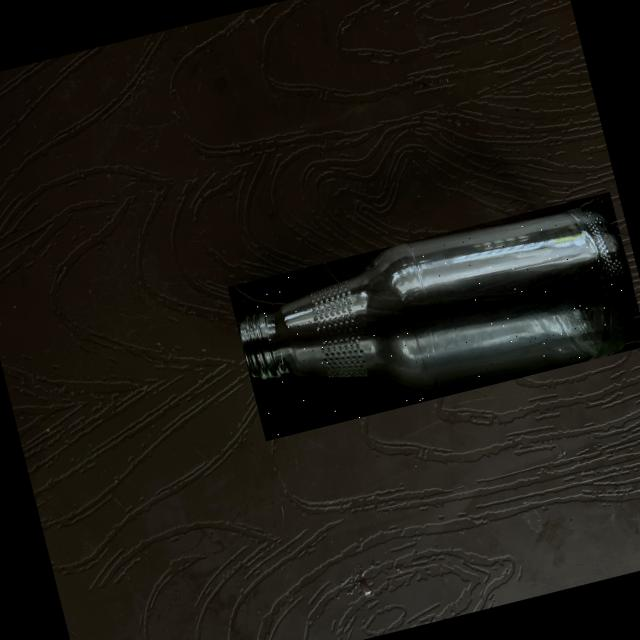Glass_Bottle: (241, 209, 633, 388)
